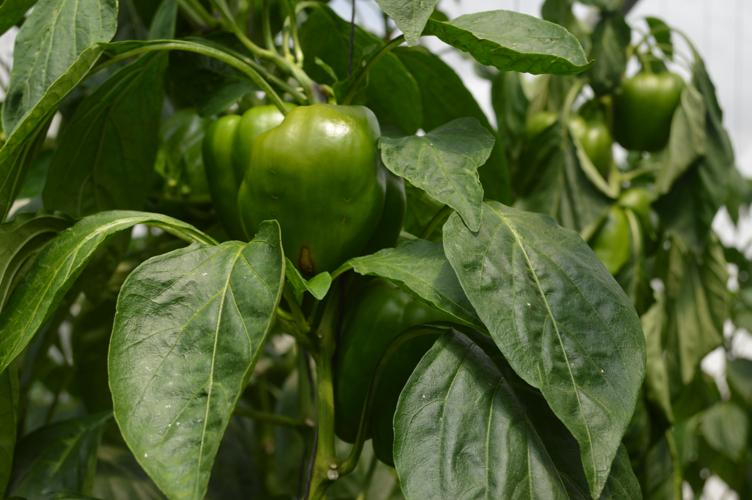BellPepper: (211, 99, 404, 269), (330, 280, 467, 454), (618, 73, 685, 147), (526, 113, 614, 169)
